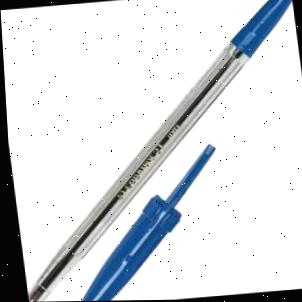pen-pencil: (28, 0, 292, 302)
